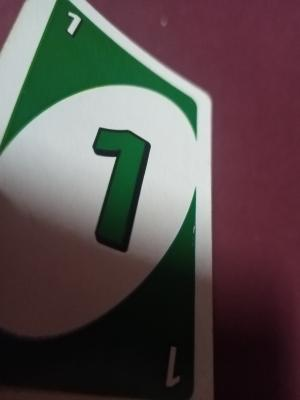green: (29, 47, 184, 382)
num_1: (60, 5, 89, 44)
